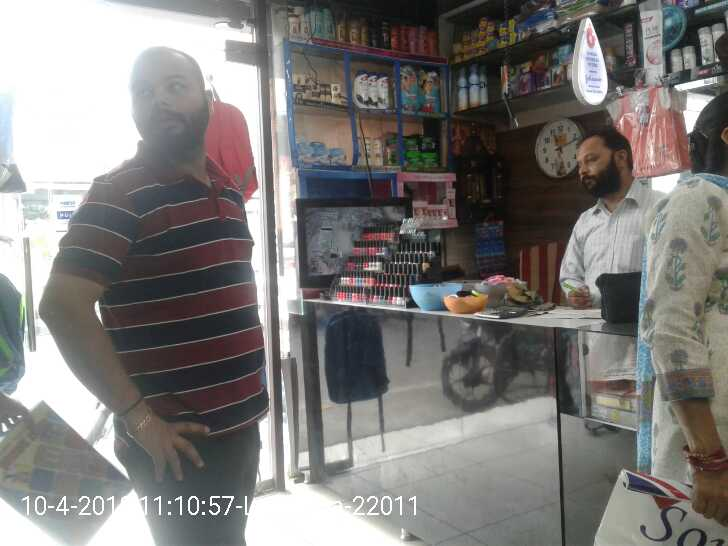ambipureVesus: (469, 64, 481, 107), (457, 66, 468, 110), (481, 66, 488, 104)
venus: (312, 138, 328, 165), (328, 148, 348, 166), (300, 141, 312, 163)
